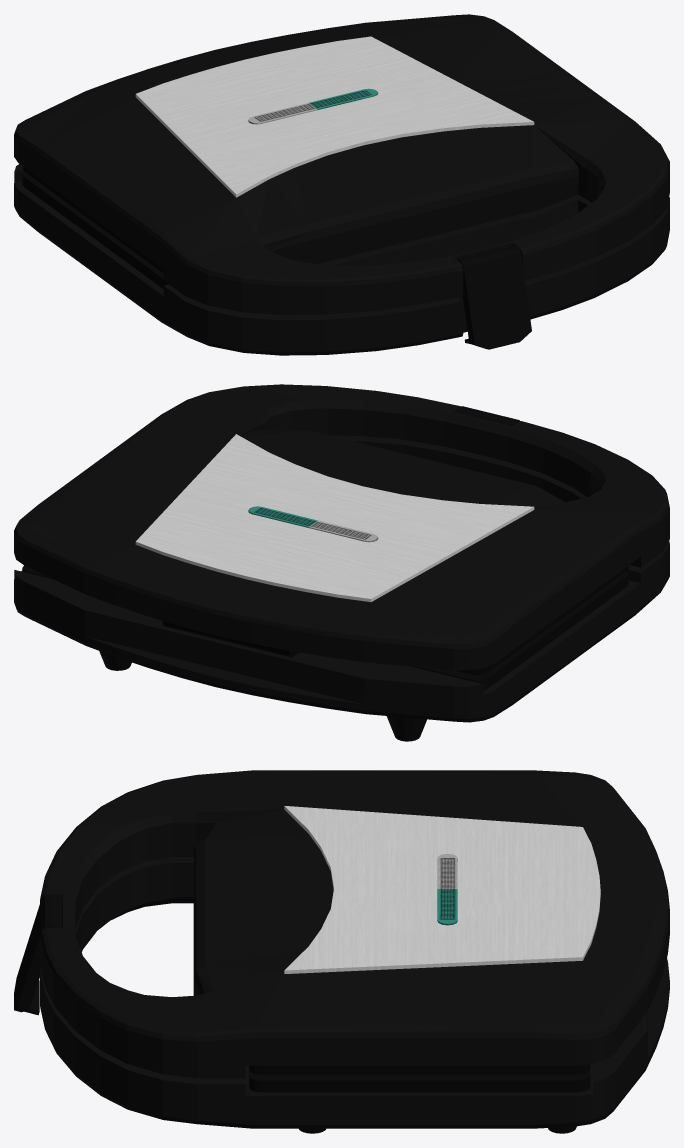
Rendered from sandwichMaker.obj.
3 views of the same model, one above another, from view 1: azimuth 30°, elevation 25°; view 2: azimuth 150°, elevation 25°; view 3: azimuth 270°, elevation 25° (orthographic). The views are drawn at different scales.
Parts seen in each view (by area): view 1: sweethome3d_opening_on_hinge_1_Top, lowBase_Cube.004, sweethome3d_opening_on_hinge_1_closePiece_sweethome3d_opening_on, grill_Plane, sweethome3d_opening_on_hinge_1_light, sweethome3d_opening_on_hinge_1_grillSup; view 2: sweethome3d_opening_on_hinge_1_Top, lowBase_Cube.004, grill_Plane, sweethome3d_opening_on_hinge_1_light, littleLegs_Cylinder.003, sweethome3d_opening_on_hinge_1_grillSup; view 3: sweethome3d_opening_on_hinge_1_Top, lowBase_Cube.004, grill_Plane, sweethome3d_opening_on_hinge_1_grillSup, sweethome3d_opening_on_hinge_1_closePiece_sweethome3d_opening_on, sweethome3d_opening_on_hinge_1_light.
Boxes of the visible parts, x1,y1,x2,y2 form: sweethome3d_opening_on_hinge_1_Top: (14,14,669,314); lowBase_Cube.004: (14,164,669,355); sweethome3d_opening_on_hinge_1_closePiece_sweethome3d_opening_on: (457,246,531,349); grill_Plane: (22,172,168,288); sweethome3d_opening_on_hinge_1_light: (248,88,377,124); sweethome3d_opening_on_hinge_1_grillSup: (22,166,163,273); sweethome3d_opening_on_hinge_1_Top: (14,384,669,670); lowBase_Cube.004: (14,435,669,722); grill_Plane: (22,565,628,689); sweethome3d_opening_on_hinge_1_light: (248,506,377,542); littleLegs_Cylinder.003: (99,651,426,741); sweethome3d_opening_on_hinge_1_grillSup: (455,566,628,675); sweethome3d_opening_on_hinge_1_Top: (40,770,669,1078); lowBase_Cube.004: (40,857,669,1128); grill_Plane: (249,1069,590,1092); sweethome3d_opening_on_hinge_1_grillSup: (249,1064,590,1074); sweethome3d_opening_on_hinge_1_closePiece_sweethome3d_opening_on: (14,894,62,1015); sweethome3d_opening_on_hinge_1_light: (437,854,457,925).
Bounding box in the file's own units: 24 × 6.77 × 25.22.
